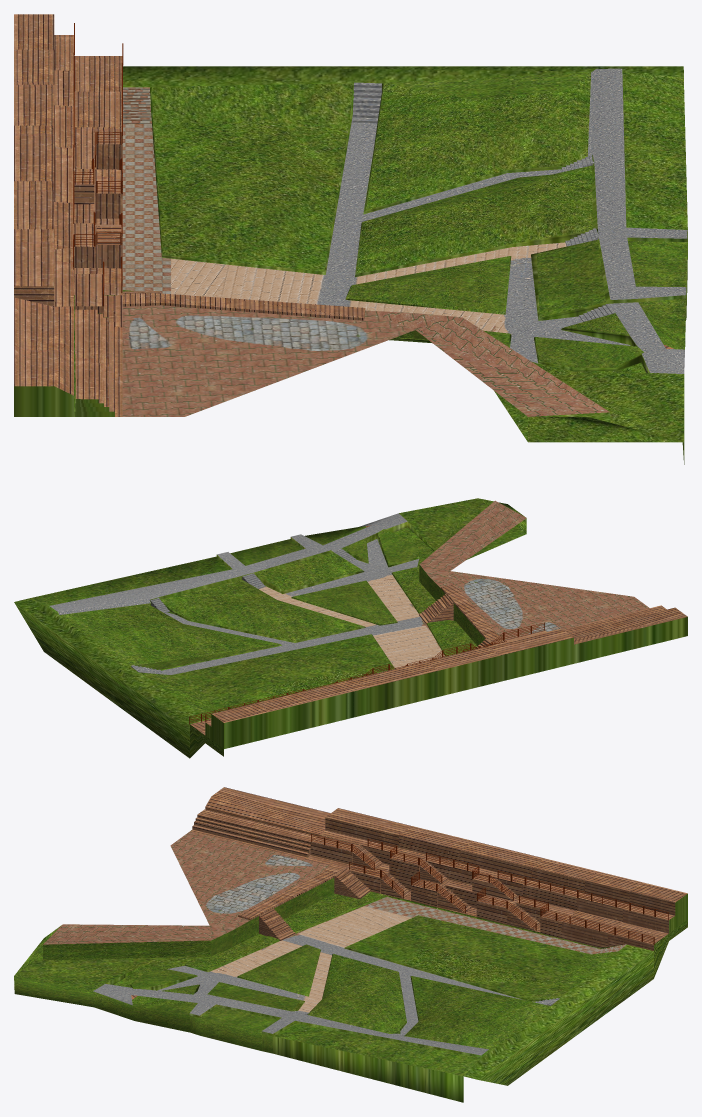
File: terrass.fbx
3 renders of one model, top to bottom at view 1: azimuth 30°, elevation 25°; view 2: azimuth 150°, elevation 25°; view 3: azimuth 270°, elevation 25°, orthographic. The views are drawn at different scales.
Visible parts, largest first — view 1: terrarian, fence, polySurface56, polySurface23, polySurface47; view 2: terrarian, fence, polySurface49; view 3: terrarian, fence, polySurface20, polySurface49, polySurface47, polySurface40, polySurface39.
Boxes of the visible parts, x1=… form: terrarian: x1=14, y1=14, x2=687, y2=464; fence: x1=73, y1=23, x2=123, y2=306; polySurface56: x1=352, y1=82, x2=381, y2=122; polySurface23: x1=123, y1=87, x2=151, y2=124; polySurface47: x1=74, y1=169, x2=94, y2=204; terrarian: x1=14, y1=498, x2=687, y2=758; fence: x1=189, y1=622, x2=544, y2=724; polySurface49: x1=419, y1=594, x2=453, y2=624; terrarian: x1=14, y1=787, x2=687, y2=1102; fence: x1=311, y1=834, x2=668, y2=944; polySurface20: x1=334, y1=867, x2=370, y2=899; polySurface49: x1=259, y1=908, x2=295, y2=940; polySurface47: x1=472, y1=874, x2=518, y2=900; polySurface40: x1=507, y1=904, x2=540, y2=930; polySurface39: x1=437, y1=887, x2=471, y2=912.
Size of the model in its own units: 0.7411 by 0.0785 by 0.7907.
1 material, 1 textured.
